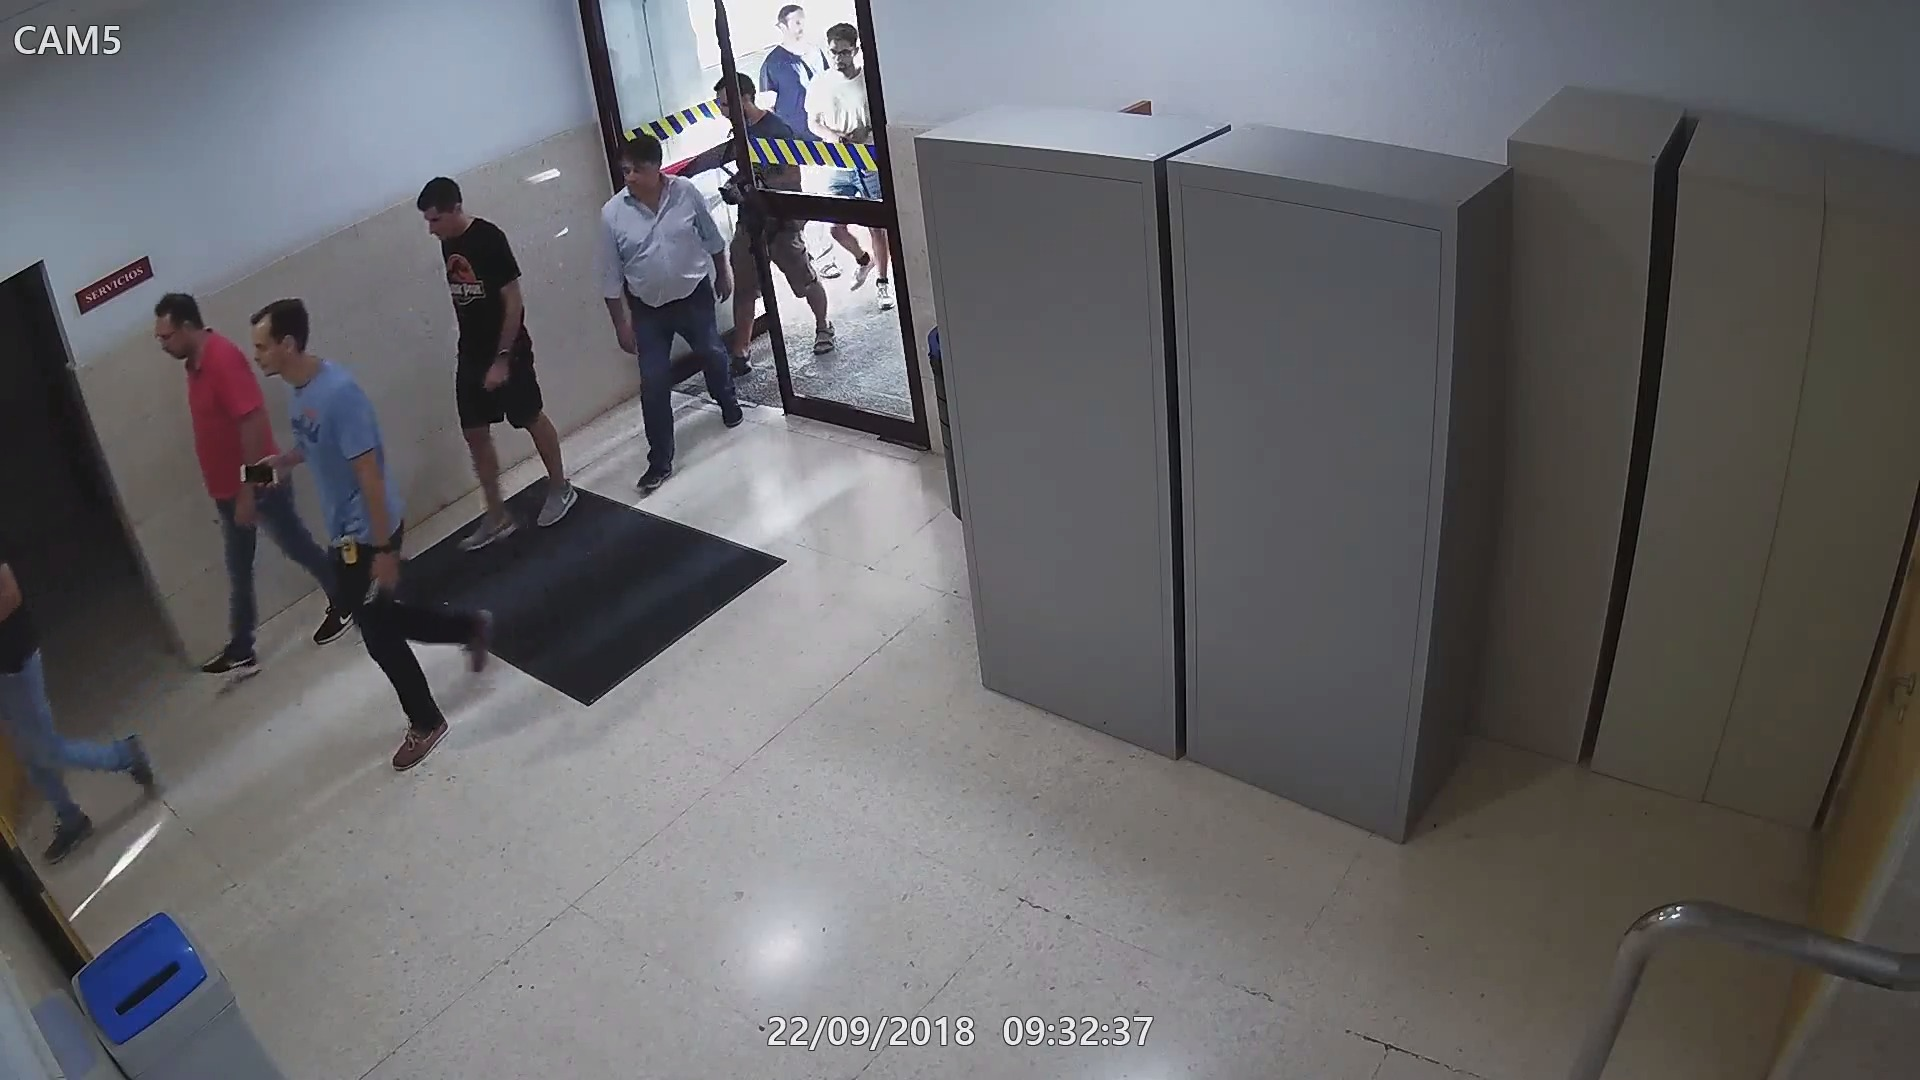Handgun: (360, 553, 409, 607)
Knife: (373, 555, 400, 617)
